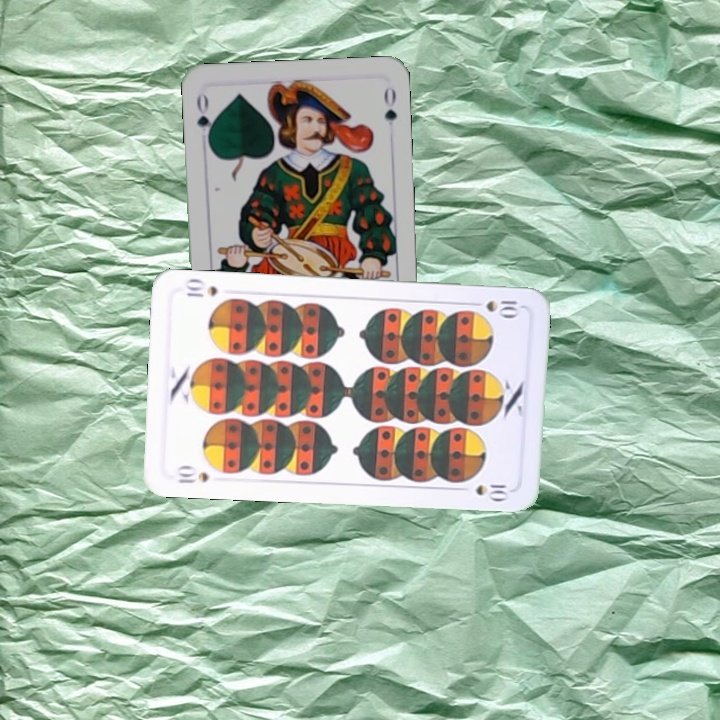GO: (193, 88, 217, 147)
S10: (465, 295, 524, 318), (173, 462, 211, 486)
